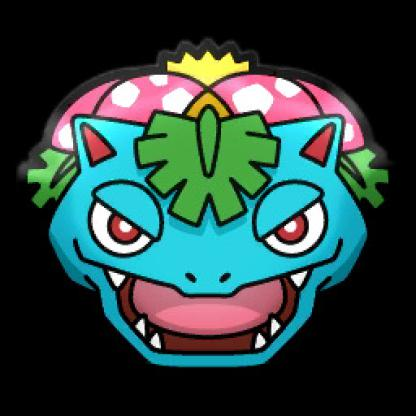Venusaur: (17, 41, 407, 388)
